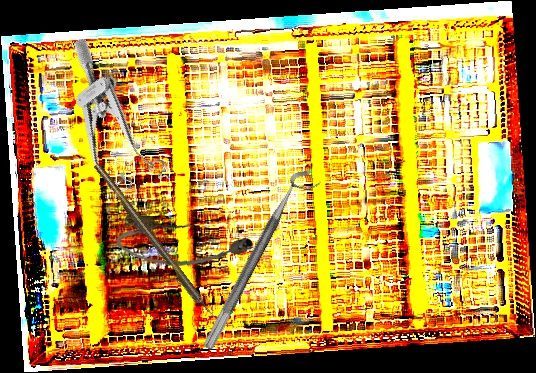Cannula: (114, 211, 255, 278)
Fixation Ring: (201, 164, 324, 359)
Hook Surgical: (92, 161, 221, 327)
Speculum: (26, 36, 183, 211)
